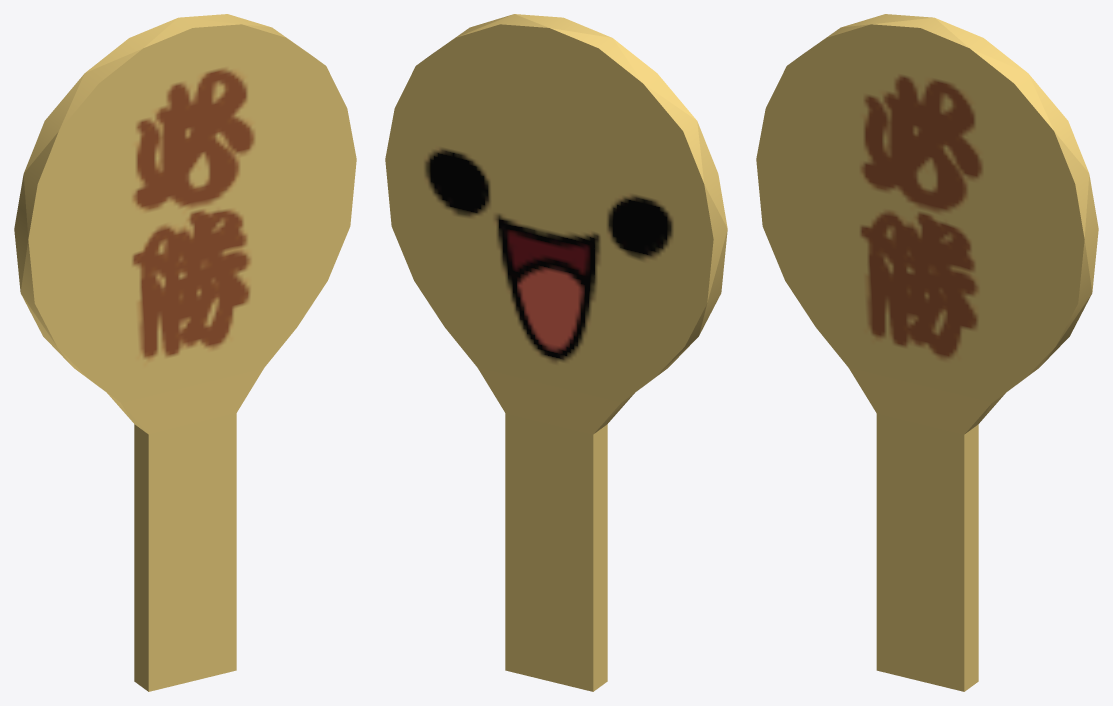
Rendered from icon.ico.obj.
The picture shows the model from 3 angles, left to right: view 1: azimuth 30°, elevation 25°; view 2: azimuth 150°, elevation 25°; view 3: azimuth 330°, elevation 25°; orthographic projection.
Bounding box in the file's own units: 2.43 × 4.62 × 0.1821.
1 material, 1 textured.
